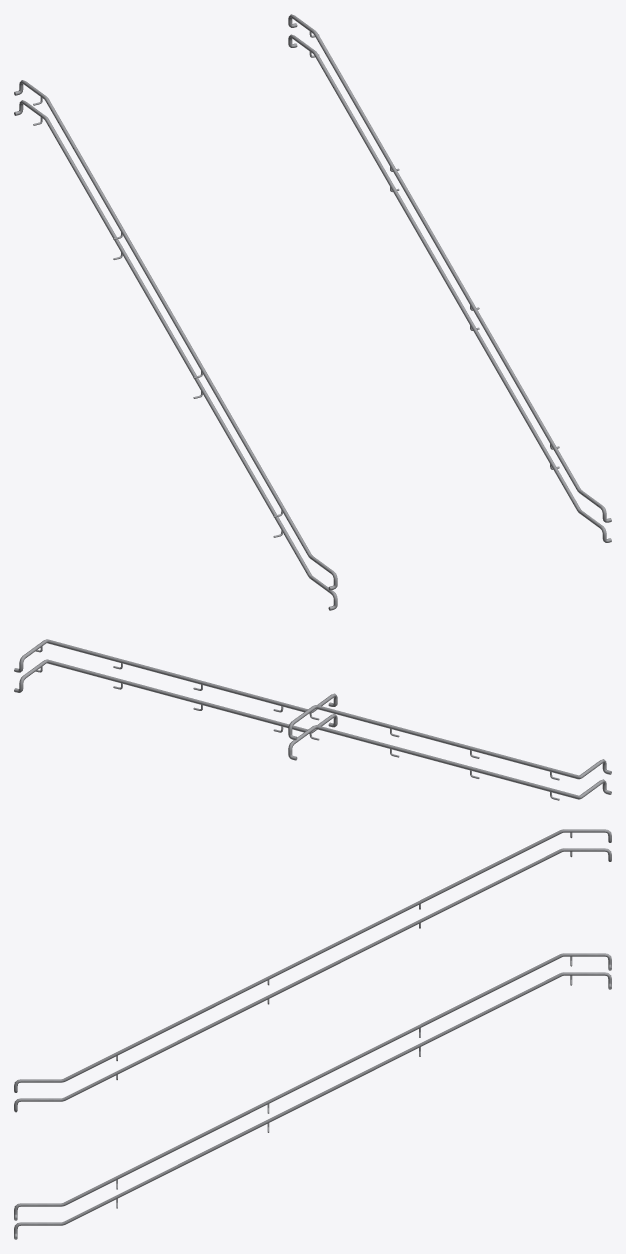
The model's file is gteki_ik_stair_n16_r164_t297_w2741_rails_wall.glb.
The picture shows the model from 3 angles, top to bottom: view 1: azimuth 30°, elevation 25°; view 2: azimuth 150°, elevation 25°; view 3: azimuth 270°, elevation 25°; orthographic projection. The views are drawn at different scales.
Visible parts, largest first — view 1: VIS_handrails; view 2: VIS_handrails, VIS_rail_supports; view 3: VIS_handrails.
Part boxes in pixels (left/top/right/bottom): VIS_handrails: left=14, top=14, right=611, bottom=610; VIS_handrails: left=14, top=639, right=611, bottom=799; VIS_rail_supports: left=35, top=646, right=559, bottom=800; VIS_handrails: left=14, top=829, right=611, bottom=1239.
Size of the model in its own units: 2.96 by 2.98 by 5.69.
1 material, 1 textured.
